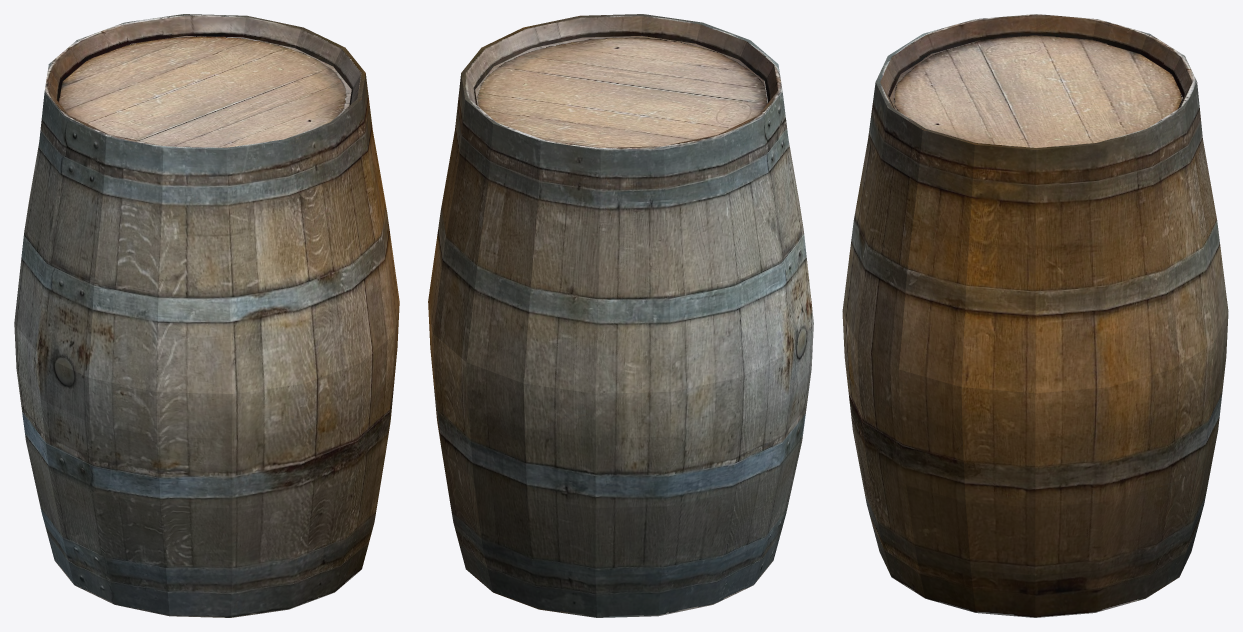
File: barrel.glb
3 renders of one model, left to right at view 1: azimuth 30°, elevation 25°; view 2: azimuth 150°, elevation 25°; view 3: azimuth 270°, elevation 25°, orthographic.
Visible parts, largest first — view 1: barrel; view 2: barrel; view 3: barrel.
Part boxes in pixels (bbox=[...]): barrel: bbox=[14, 14, 399, 617]; barrel: bbox=[428, 14, 813, 617]; barrel: bbox=[842, 14, 1228, 617].
Bounding box in the file's own units: 0.7477 × 1 × 0.7477.
Materials: 1 (1 with a texture image).
